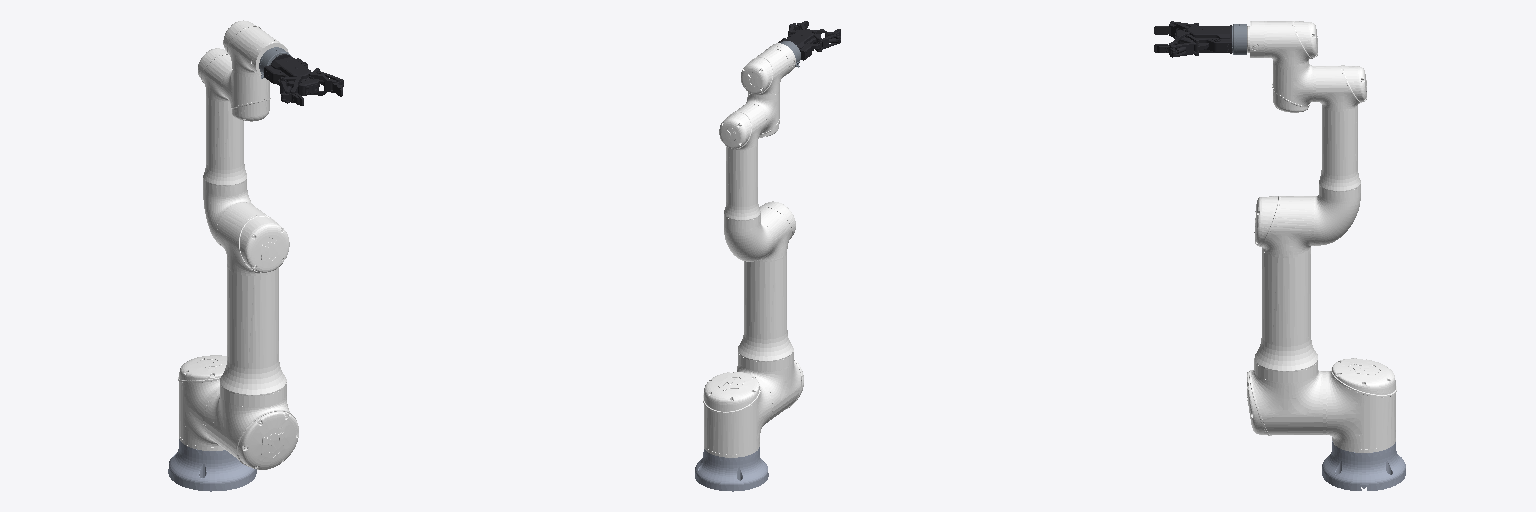
robot.urdf — ec616:
<?xml version="1.0" encoding="utf-8"?>
<!-- This URDF was automatically created by SolidWorks to URDF Exporter! Originally created by Stephen Brawner (brawner@gmail.com) 
     Commit Version: 1.5.1-0-g916b5db  Build Version: 1.5.7152.31018
     For more information, please see http://wiki.ros.org/sw_urdf_exporter -->
<robot
  name="ec616">
  <link
    name="base_link">
    <inertial>
      <origin
        xyz="0.000926740277532663 2.54959756291492E-05 0.0567521917043989"
        rpy="0 0 0" />
      <mass
        value="0.966540275440151" />
      <inertia
        ixx="0.00240525658915926"
        ixy="-2.77348671745449E-08"
        ixz="3.47864179977067E-05"
        iyy="0.00228259847121204"
        iyz="7.38002287575388E-07"
        izz="0.00358840693075223" />
    </inertial>
    <visual>
      <origin
        xyz="0 0 0"
        rpy="0 0 0" />
      <geometry>
        <mesh
          filename="meshes/base_link.STL" />
      </geometry>
      <material
        name="">
        <color
          rgba="0.666666666666667 0.698039215686274 0.764705882352941 1" />
      </material>
    </visual>
    <collision>
      <origin
        xyz="0 0 0"
        rpy="0 0 0" />
      <geometry>
        <mesh
          filename="meshes/base_link.STL" />
      </geometry>
    </collision>
  </link>
  <link
    name="Link1">
    <inertial>
      <origin
        xyz="3.8968E-06 -0.010072 -0.0037484"
        rpy="0 0 0" />
      <mass
        value="3.7815" />
      <inertia
        ixx="0.016669"
        ixy="-3.3444E-07"
        ixz="-1.6233E-06"
        iyy="0.015555"
        iyz="0.00045824"
        izz="0.012724" />
    </inertial>
    <visual>
      <origin
        xyz="0 0 0"
        rpy="0 0 0" />
      <geometry>
        <mesh
          filename="meshes/Link1.STL" />
      </geometry>
      <material
        name="">
        <color
          rgba="1 1 1 1" />
      </material>
    </visual>
    <collision>
      <origin
        xyz="0 0 0"
        rpy="0 0 0" />
      <geometry>
        <mesh
          filename="meshes/Link1.STL" />
      </geometry>
    </collision>
  </link>
  <joint
    name="Joint1"
    type="revolute">
    <origin
      xyz="0 0 0.185"
      rpy="0 0 0" />
    <parent
      link="base_link" />
    <child
      link="Link1" />
    <axis
      xyz="0 0 -1" />
    <limit
      lower="-4.188" upper="4.188" effort="100.0" velocity="0.35"/>
  </joint>
  <link
    name="Link2">
    <inertial>
      <origin
        xyz="-0.18876 -2.1901E-06 0.18327"
        rpy="0 0 0" />
      <mass
        value="9.3681" />
      <inertia
        ixx="0.027441"
        ixy="3.9135E-07"
        ixz="0.00041782"
        iyy="0.060064"
        iyz="2.1635E-06"
        izz="0.055086" />
    </inertial>
    <visual>
      <origin
        xyz="0 0 0"
        rpy="0 0 0" />
      <geometry>
        <mesh
          filename="meshes/Link2.STL" />
      </geometry>
      <material
        name="">
        <color
          rgba="1 1 1 1" />
      </material>
    </visual>
    <collision>
      <origin
        xyz="0 0 0"
        rpy="0 0 0" />
      <geometry>
        <mesh
          filename="meshes/Link2.STL" />
      </geometry>
    </collision>
  </link>
  <joint
    name="Joint2"
    type="revolute">
    <origin
      xyz="0 0 0"
      rpy="1.5708 1.5708 0" />
    <parent
      link="Link1" />
    <child
      link="Link2" />
    <axis
      xyz="0 0 -1" />
    <limit
      lower="-4.188" upper="2.094" effort="100.0" velocity="0.35"/>
  </joint>
  <link
    name="Link3">
    <inertial>
      <origin
        xyz="-0.17798 1.0373E-05 0.062527"
        rpy="0 0 0" />
      <mass
        value="3.2737" />
      <inertia
        ixx="0.0042873"
        ixy="-6.7556E-08"
        ixz="-0.00029778"
        iyy="0.010819"
        iyz="3.1026E-07"
        izz="0.010294" />
    </inertial>
    <visual>
      <origin
        xyz="0 0 0"
        rpy="0 0 0" />
      <geometry>
        <mesh
          filename="meshes/Link3.STL" />
      </geometry>
      <material
        name="">
        <color
          rgba="1 1 1 1" />
      </material>
    </visual>
    <collision>
      <origin
        xyz="0 0 0"
        rpy="0 0 0" />
      <geometry>
        <mesh
          filename="meshes/Link3.STL" />
      </geometry>
    </collision>
  </link>
  <joint
    name="Joint3"
    type="revolute">
    <origin
      xyz="-0.478 0 0"
      rpy="0 0 0" />
    <parent
      link="Link2" />
    <child
      link="Link3" />
    <axis
      xyz="0 0 -1" />
    <limit
      lower="-4.188" upper="2.094" effort="100.0" velocity="0.35"/>
  </joint>
  <link
    name="Link4">
    <inertial>
      <origin
        xyz="-9.1587E-07 0.0016642 -0.0058278"
        rpy="0 0 0" />
      <mass
        value="0.83545" />
      <inertia
        ixx="0.0014785"
        ixy="-6.9792E-08"
        ixz="9.9316E-08"
        iyy="0.00092177"
        iyz="-3.0493E-05"
        izz="0.0013843" />
    </inertial>
    <visual>
      <origin
        xyz="0 0 0"
        rpy="0 0 0" />
      <geometry>
        <mesh
          filename="meshes/Link4.STL" />
      </geometry>
      <material
        name="">
        <color
          rgba="1 1 1 1" />
      </material>
    </visual>
    <collision>
      <origin
        xyz="0 0 0"
        rpy="0 0 0" />
      <geometry>
        <mesh
          filename="meshes/Link4.STL" />
      </geometry>
    </collision>
  </link>
  <joint
    name="Joint4"
    type="revolute">
    <origin
      xyz="-0.3595 0 0.174"
      rpy="0 0 1.5708" />
    <parent
      link="Link3" />
    <child
      link="Link4" />
    <axis
      xyz="0 0 -1" />
    <limit
      lower="-4.188" upper="2.094" effort="100.0" velocity="0.35"/>
  </joint>
  <link
    name="Link5">
    <inertial>
      <origin
        xyz="-9.1587E-07 0.0016642 -0.0058278"
        rpy="0 0 0" />
      <mass
        value="0.83545" />
      <inertia
        ixx="0.0014785"
        ixy="-6.9792E-08"
        ixz="9.9316E-08"
        iyy="0.00092177"
        iyz="-3.0493E-05"
        izz="0.0013843" />
    </inertial>
    <visual>
      <origin
        xyz="0 0 0"
        rpy="0 0 0" />
      <geometry>
        <mesh
          filename="meshes/Link5.STL" />
      </geometry>
      <material
        name="">
        <color
          rgba="1 1 1 1" />
      </material>
    </visual>
    <collision>
      <origin
        xyz="0 0 0"
        rpy="0 0 0" />
      <geometry>
        <mesh
          filename="meshes/Link5.STL" />
      </geometry>
    </collision>
  </link>
  <joint
    name="Joint5"
    type="revolute">
    <origin
      xyz="0 0.1165 0"
      rpy="1.5708 0 3.1416" />
    <parent
      link="Link4" />
    <child
      link="Link5" />
    <axis
      xyz="0 0 -1" />
    <limit
      lower="-4.188" upper="2.094" effort="100.0" velocity="0.35"/>
  </joint>
  <link
    name="Link6">
    <inertial>
      <origin
        xyz="4.4062E-06 1.9966E-05 -0.022145"
        rpy="0 0 0" />
      <mass
        value="0.20756" />
      <inertia
        ixx="0.00010768"
        ixy="-1.0427E-09"
        ixz="-4.8616E-09"
        iyy="0.00011933"
        iyz="-8.152E-08"
        izz="0.00017733" />
    </inertial>
    <visual>
      <origin
        xyz="0 0 0"
        rpy="0 0 0" />
      <geometry>
        <mesh
          filename="meshes/Link6.STL" />
      </geometry>
      <material
        name="">
        <color
          rgba="1 1 1 1" />
      </material>
    </visual>
    <collision>
      <origin
        xyz="0 0 0"
        rpy="0 0 0" />
      <geometry>
        <mesh
          filename="meshes/Link6.STL" />
      </geometry>
    </collision>
  </link>
  <joint
    name="Joint6"
    type="revolute">
    <origin
      xyz="0 0.1038 0"
      rpy="-1.5708 0 0" />
    <parent
      link="Link5" />
    <child
      link="Link6" />
    <axis
      xyz="0 0 -1" />
    <limit
      lower="-4.188" upper="2.094" effort="100.0" velocity="0.35"/>
  </joint>

  <!-- FT sensor KWR75 (H=33.5mm) between Link6 flange and AG-95 -->
  <link name="ft_kwr75_link">
    <inertial>
      <origin xyz="0 0 0.01675" rpy="0 0 0"/>
      <mass value="0.25"/>
      <inertia ixx="2e-4" ixy="0" ixz="0" iyy="2e-4" iyz="0" izz="2e-4"/>
    </inertial>
    <visual>
      <origin xyz="0 0 0" rpy="0 0 0"/>
      <geometry>
        <mesh filename="meshes/KWR75.STL"/>
      </geometry>
      <material name="ft_kwr75">
        <color rgba="0.55 0.58 0.62 1"/>
      </material>
    </visual>
    <collision>
      <origin xyz="0 0 0" rpy="0 0 0"/>
      <geometry>
        <mesh filename="meshes/KWR75.STL"/>
      </geometry>
    </collision>
  </link>
  <joint name="ft_kwr75_fixed" type="fixed">
    <origin xyz="0 0 0" rpy="0 0 0"/>
    <parent link="Link6"/>
    <child link="ft_kwr75_link"/>
  </joint>

  <!-- End-effector: DH AG-95 (static solid), mounted on KWR75 tool face (z=+0.0335) -->
  <link name="gripper_centor_link">
    <inertial>
      <origin xyz="0 0 0.09" rpy="0 0 0"/>
      <mass value="0.8"/>
      <inertia ixx="1e-3" ixy="0" ixz="0" iyy="1e-3" iyz="0" izz="1e-3"/>
    </inertial>
    <visual>
      <origin xyz="0 0 0" rpy="0 0 0"/>
      <geometry>
        <mesh filename="meshes/AG95.STL"/>
      </geometry>
      <material name="gripper_ag95">
        <color rgba="0.22 0.22 0.24 1"/>
      </material>
    </visual>
    <collision>
      <origin xyz="0 0 0" rpy="0 0 0"/>
      <geometry>
        <mesh filename="meshes/AG95.STL"/>
      </geometry>
    </collision>
  </link>
  <joint name="gripper_centor_fixed" type="fixed">
    <origin xyz="0 0 0.0335" rpy="0 0 0"/>
    <parent link="ft_kwr75_link"/>
    <child link="gripper_centor_link"/>
  </joint>

</robot>

--- Facts derived from the render (not from the file) ---
Views: 3 orthographic renders of the robot side by side, from view 1: azimuth 30°, elevation 25°; view 2: azimuth 150°, elevation 25°; view 3: azimuth 270°, elevation 25°.
Robot: ec616 — 9 links, 8 joints (6 revolute, 2 fixed); root link base_link; default pose: all joints at 0.
Visible links, largest first — view 1: Link2, Link3, Link1, base_link, gripper_centor_link, Link4, Link5, Link6; view 2: Link2, Link3, Link1, base_link, Link5, gripper_centor_link, Link4; view 3: Link2, Link3, Link1, base_link, Link5, gripper_centor_link, Link4, Link6.
Boxes of the visible links, x1,y1,x2,y2 form: Link2: [203, 202, 298, 469]; Link3: [198, 48, 252, 245]; Link1: [178, 355, 226, 450]; base_link: [168, 439, 256, 491]; gripper_centor_link: [264, 54, 343, 105]; Link4: [223, 69, 270, 121]; Link5: [223, 20, 272, 74]; Link6: [248, 38, 288, 78]; Link2: [737, 201, 803, 422]; Link3: [719, 103, 771, 261]; Link1: [703, 372, 771, 457]; base_link: [695, 447, 768, 491]; Link5: [741, 48, 788, 95]; gripper_centor_link: [778, 21, 840, 60]; Link4: [746, 91, 779, 137]; Link2: [1247, 196, 1326, 435]; Link3: [1313, 65, 1366, 245]; Link1: [1327, 358, 1396, 452]; base_link: [1322, 441, 1405, 490]; Link5: [1264, 21, 1317, 66]; gripper_centor_link: [1154, 21, 1231, 57]; Link4: [1272, 62, 1312, 112]; Link6: [1247, 21, 1263, 57].
Size in the robot's own frame: 0.1998 by 0.5988 by 1.18 metres.
9 mesh visuals loaded from 9 distinct referenced files (9 binary STL).
